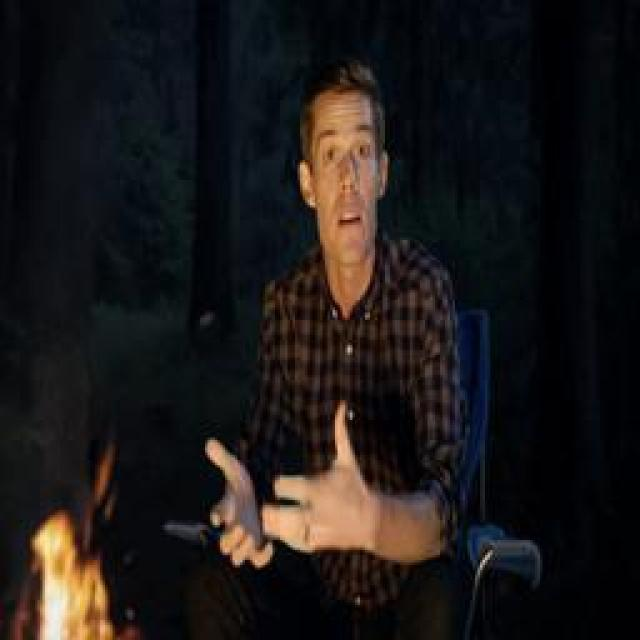Fire: (32, 447, 122, 640)
